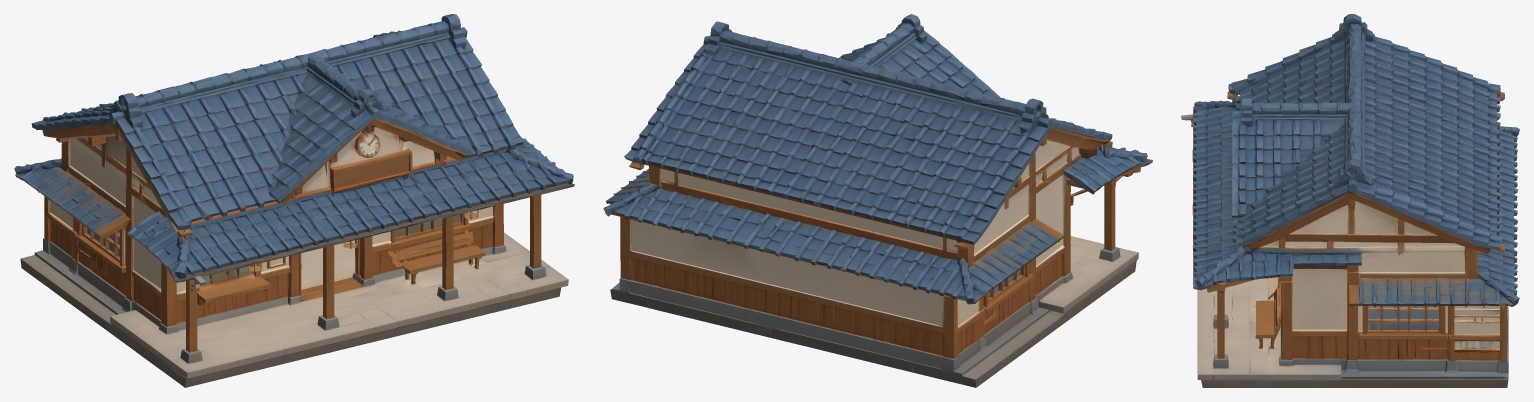
3 views of the same model, side by side, from view 1: azimuth 30°, elevation 25°; view 2: azimuth 150°, elevation 25°; view 3: azimuth 270°, elevation 25° (orthographic). The views are drawn at different scales.
Parts seen in each view (by area): view 1: model; view 2: model; view 3: model.
Boxes of the visible parts, x1=… form: model: x1=14, y1=14, x2=574, y2=387; model: x1=603, y1=14, x2=1152, y2=387; model: x1=1181, y1=14, x2=1519, y2=387.
Bounding box in the file's own units: 1.9 × 1.04 × 1.5.
Materials: 1 (1 with a texture image).
